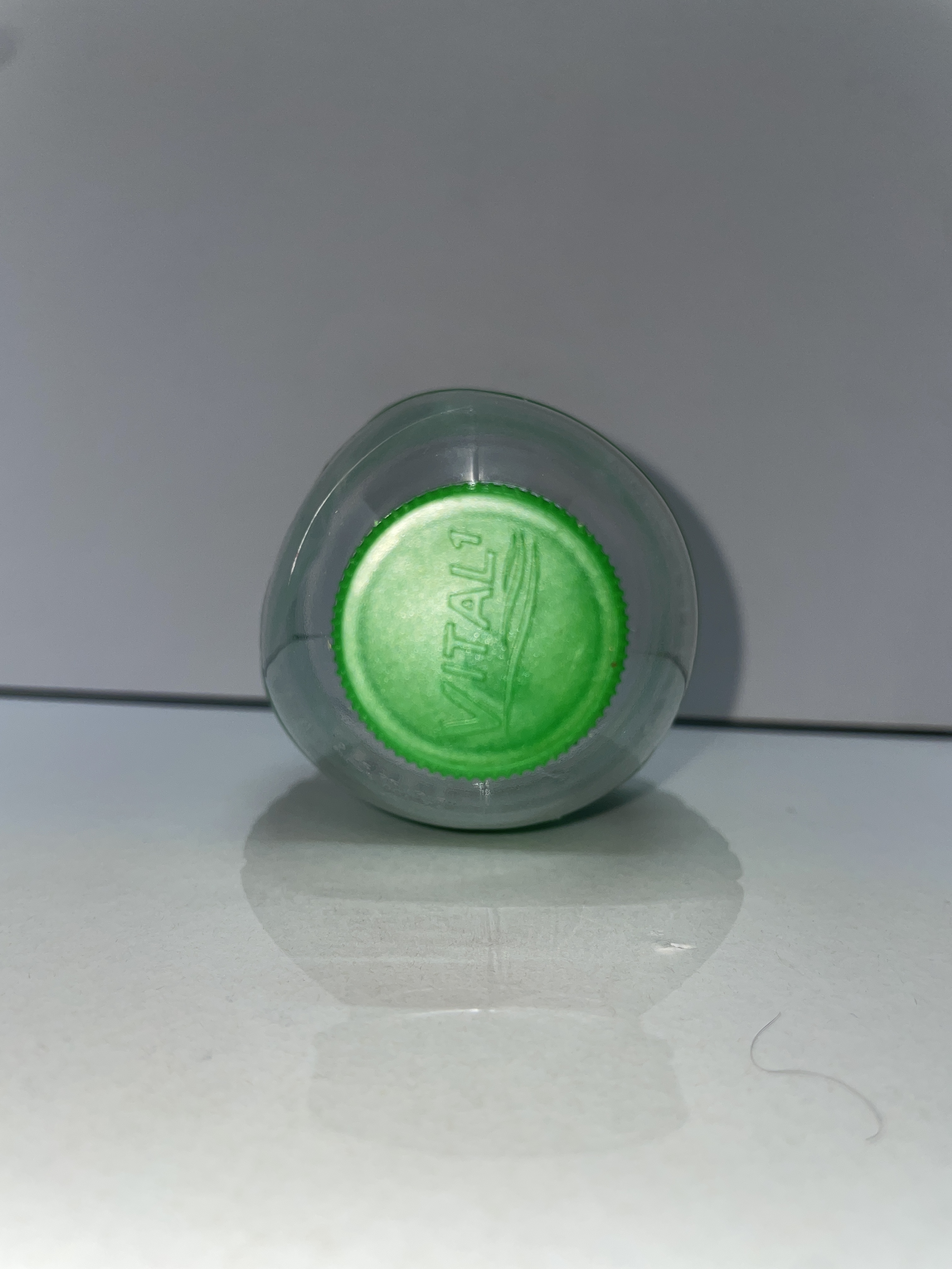Vital 1000ml: (261, 390, 697, 830)
